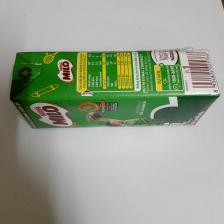Juice Box: (9, 49, 217, 134)
